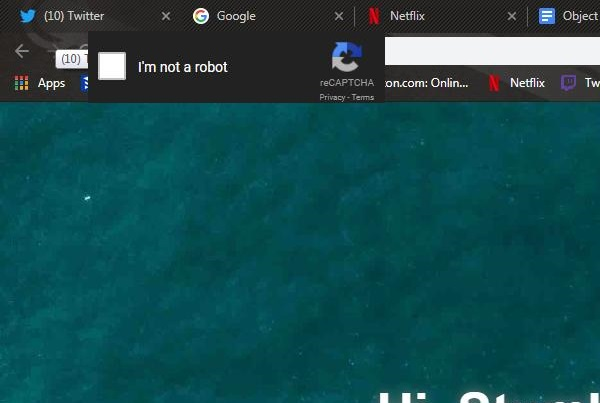captcha: (98, 51, 232, 81)
